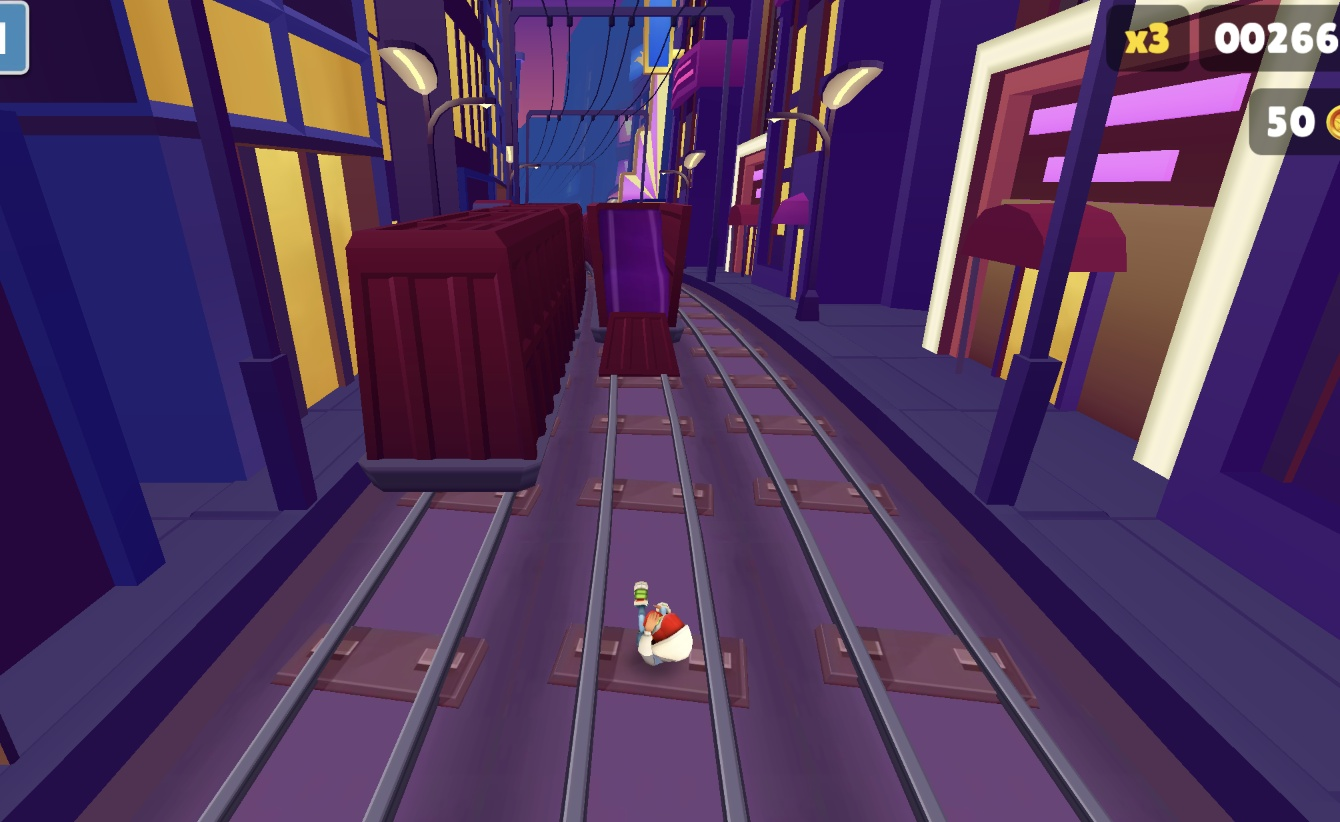train: (343, 206, 595, 496), (586, 199, 689, 384)
